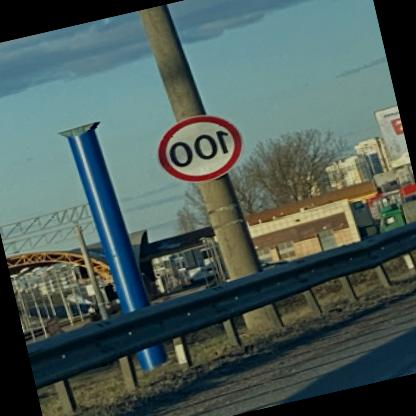speedlimit: (150, 104, 250, 188)
